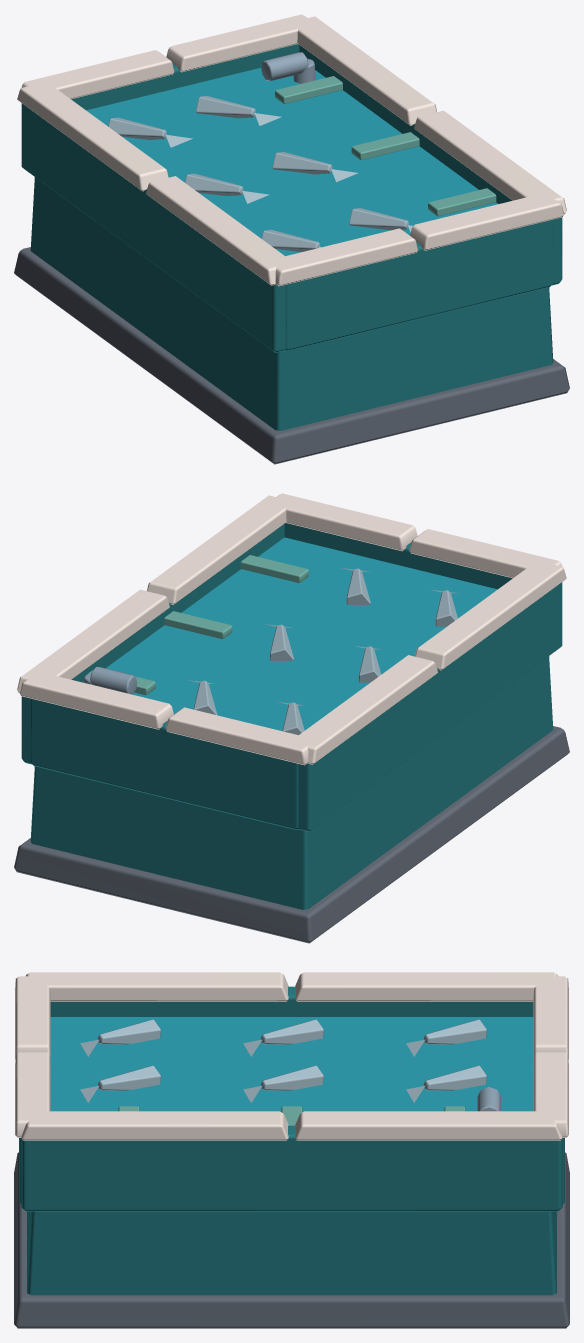
The model's file is live_fish_tank.glb.
The picture shows the model from 3 angles, top to bottom: view 1: azimuth 30°, elevation 25°; view 2: azimuth 150°, elevation 25°; view 3: azimuth 270°, elevation 25°; orthographic projection. The views are drawn at different scales.
Visible parts, largest first — view 1: live_fish_tank; view 2: live_fish_tank; view 3: live_fish_tank.
Part boxes in pixels (x1=…): live_fish_tank: x1=14, y1=14, x2=569, y2=464; live_fish_tank: x1=14, y1=493, x2=569, y2=943; live_fish_tank: x1=14, y1=972, x2=569, y2=1328.
Bounding box in the file's own units: 2.25 × 1.38 × 3.41.
